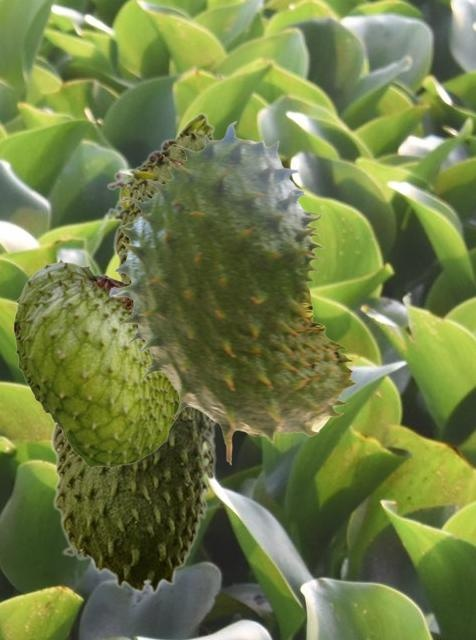guyabano: (109, 121, 355, 464), (13, 257, 180, 467), (47, 408, 218, 593), (107, 112, 219, 281)
